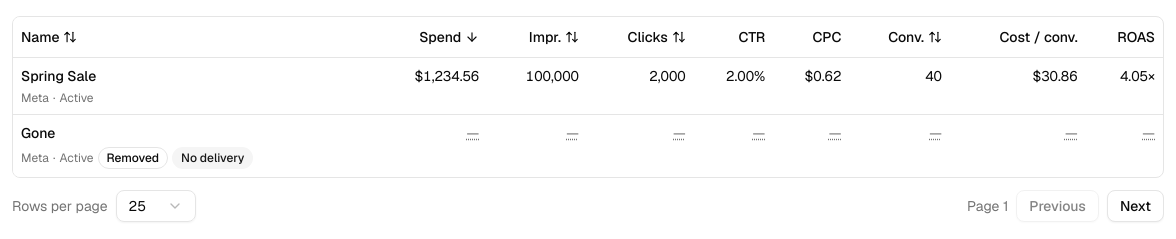
Test case: PerformanceTable › pages with the API cursor and back
Expected: the button "Previous" is disabled, [1016,190,1099,222]
Step 1. Click the button "Next" → (1135, 206), box [1107,190,1164,222]
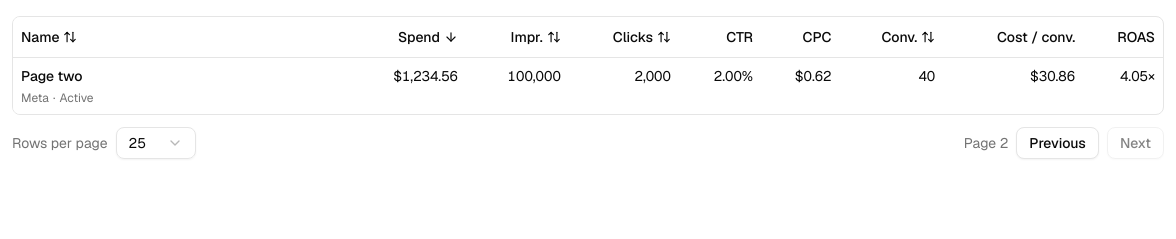
Expected: the link "Page two" is shown, [21,66,83,84]
Expected: the text "Page 2" is shown, [964,132,1008,152]
Expected: the button "Next" is disabled, [1107,126,1164,158]
Step 2. Click the button "Previous" → (1058, 142), box [1016,126,1099,158]
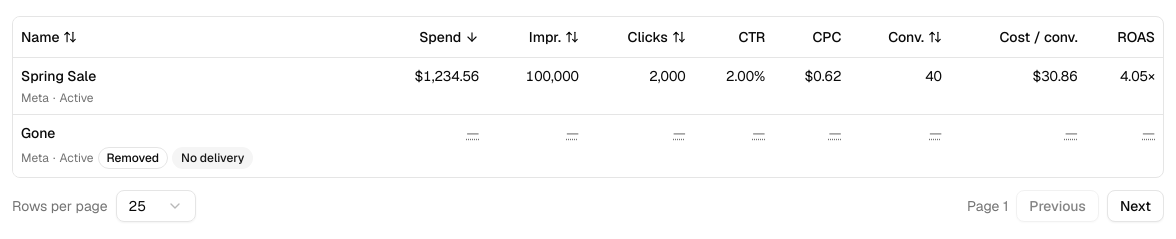
Expected: the link "Spring Sale" is shown, [21,66,96,84]
